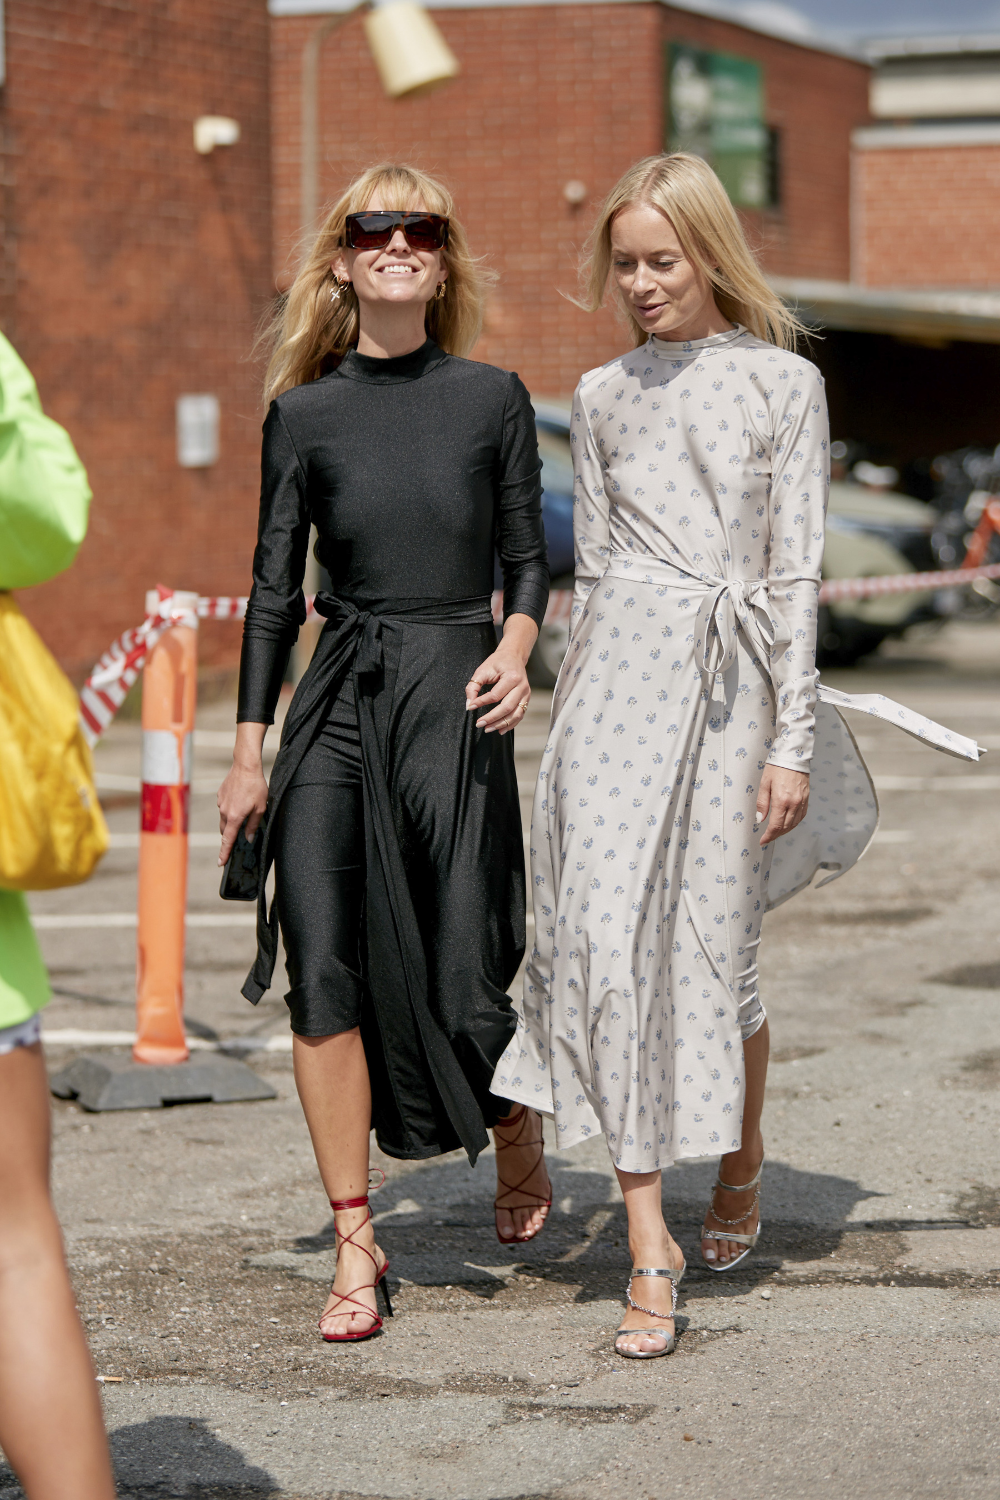Person: (177, 143, 577, 1348), (528, 145, 872, 1365), (11, 306, 134, 1500)
